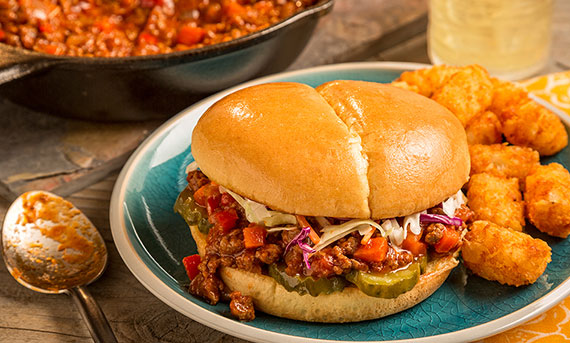hamburger_buns: (191, 70, 449, 328)
